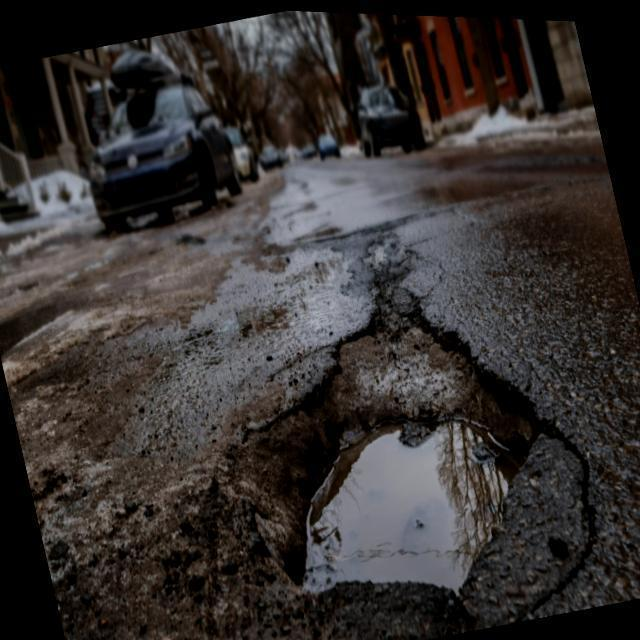Pothole: (50, 229, 613, 640)
